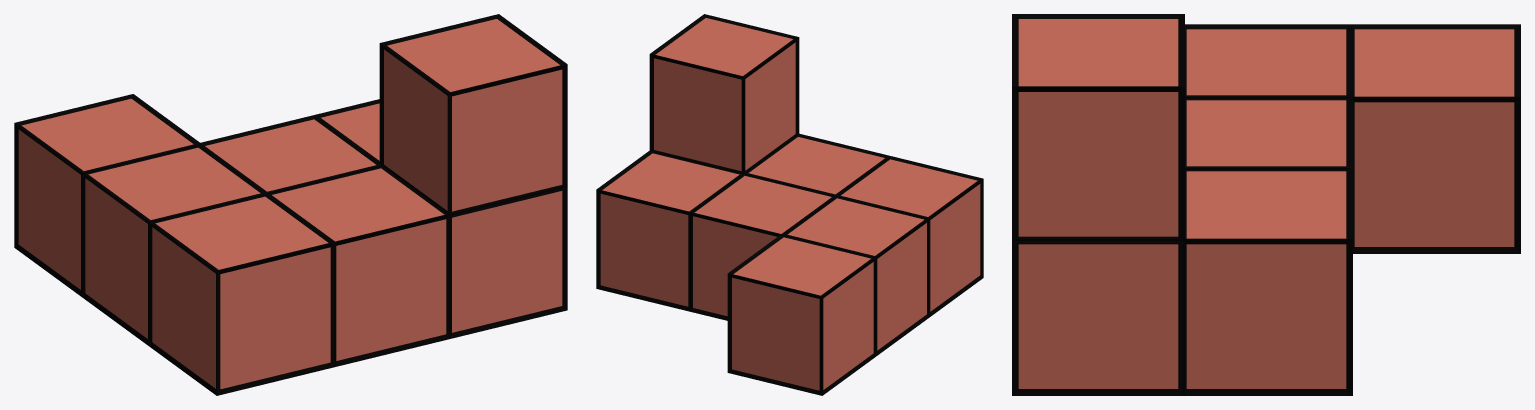
3 renders of one model, left to right at view 1: azimuth 30°, elevation 25°; view 2: azimuth 150°, elevation 25°; view 3: azimuth 270°, elevation 25°, orthographic. The views are drawn at different scales.
Parts seen in each view (by area): view 1: a3:Mesh; view 2: a3:Mesh; view 3: a3:Mesh.
Part boxes in pixels (x1,y1,x2,y2): a3:Mesh: (14,14,567,395); a3:Mesh: (596,14,983,395); a3:Mesh: (1012,14,1520,395).
Bounding box in the file's own units: 6.06 × 4.06 × 6.06.
